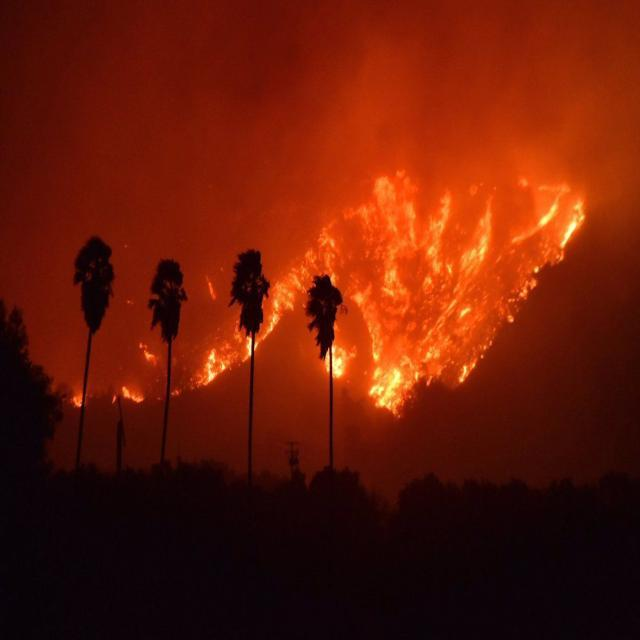Fire: (54, 172, 588, 423)
Smoke: (2, 0, 640, 385)
